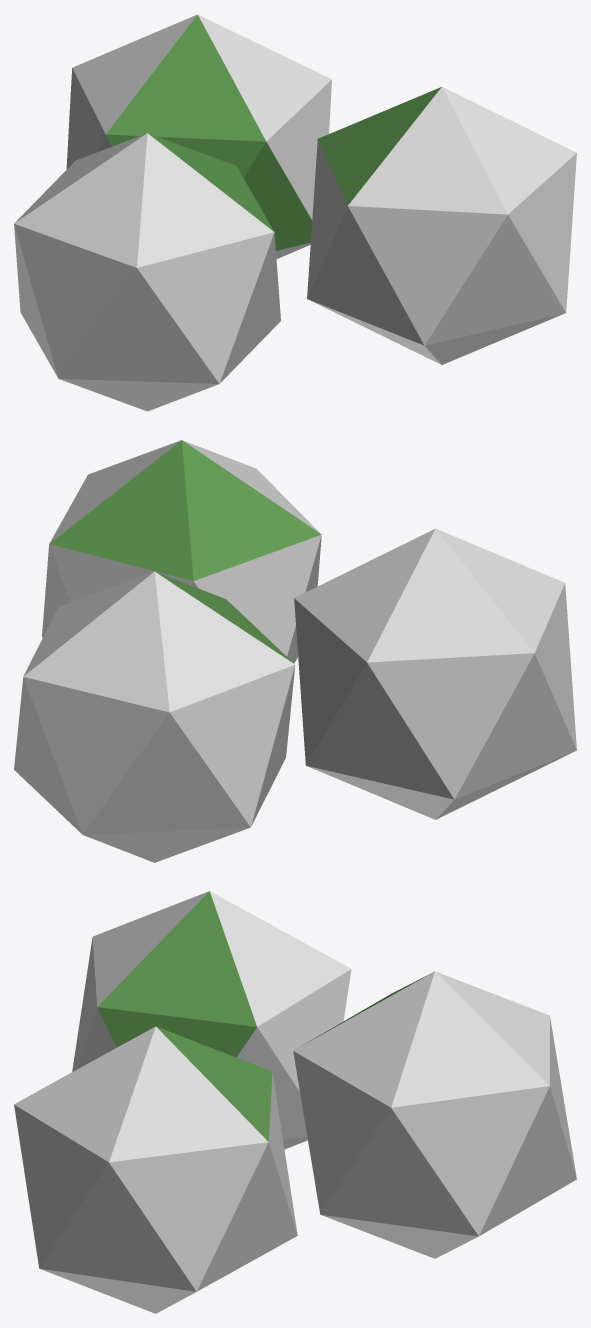
Rendered from Berries.fbx.
3 renders of one model, top to bottom at view 1: azimuth 30°, elevation 25°; view 2: azimuth 150°, elevation 25°; view 3: azimuth 270°, elevation 25°, orthographic. The views are drawn at different scales.
Visible parts, largest first — view 1: Berries; view 2: Berries; view 3: Berries.
Boxes of the visible parts, box(x1,y1,x2,y2) form: Berries: box(14, 14, 576, 411); Berries: box(14, 440, 576, 862); Berries: box(14, 891, 576, 1313).
Size of the model in its own units: 35.48 by 37.33 by 20.
